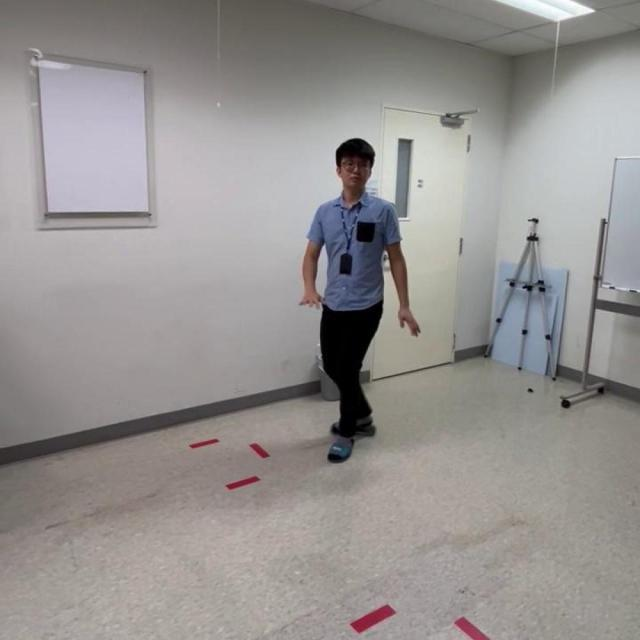bare_hand: (396, 302, 419, 338), (295, 287, 324, 310)
